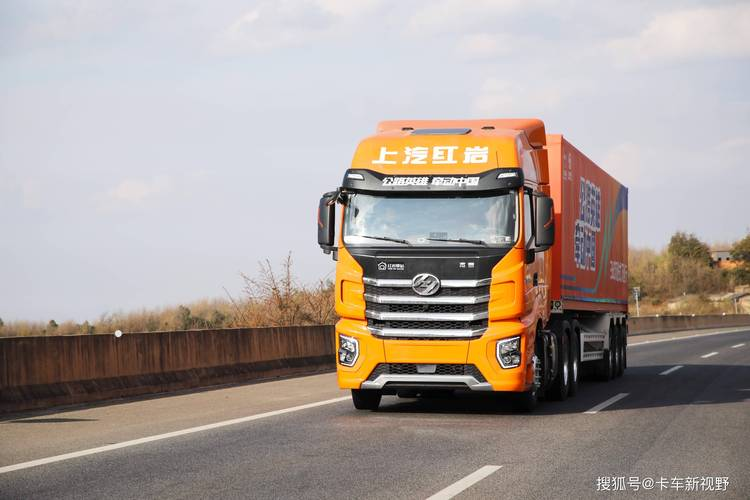卡车: (313, 113, 652, 415)
